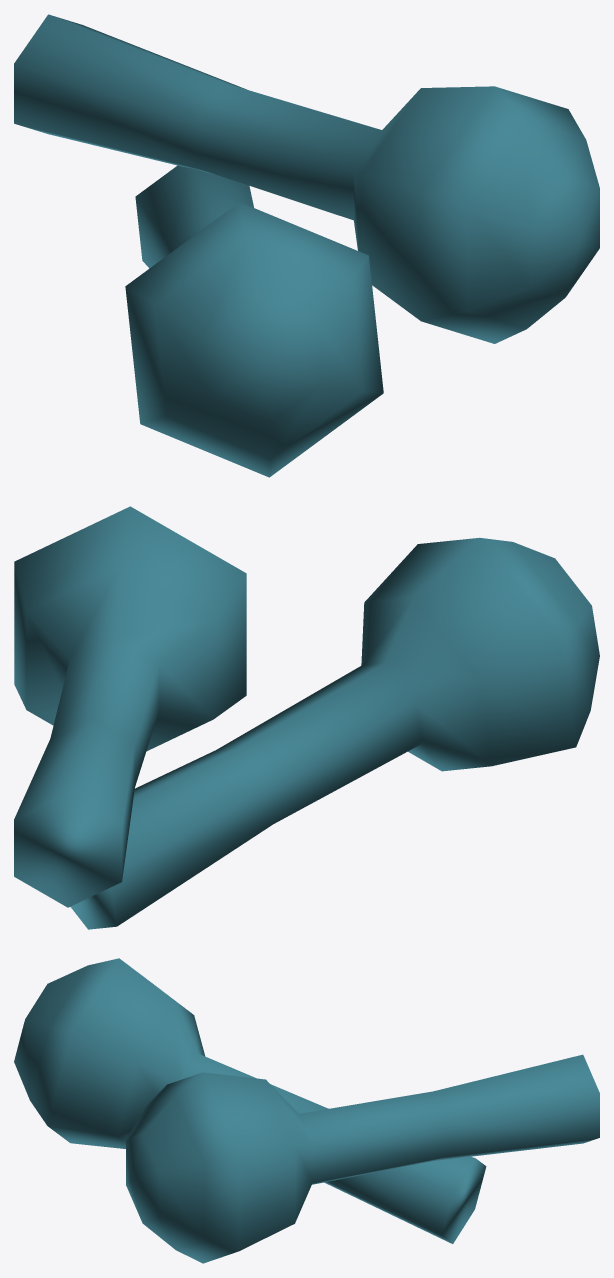
Rendered from baby_toy.fbx.
3 renders of one model, top to bottom at view 1: azimuth 30°, elevation 25°; view 2: azimuth 150°, elevation 25°; view 3: azimuth 270°, elevation 25°, orthographic. The views are drawn at different scales.
Visible parts, largest first — view 1: polySurface73; view 2: polySurface73; view 3: polySurface73.
Part boxes in pixels (<box>): polySurface73: <box>14,14,599,477</box>; polySurface73: <box>14,506,599,929</box>; polySurface73: <box>14,958,599,1263</box>.
Size of the model in its own units: 0.5077 by 0.2795 by 0.6806.
